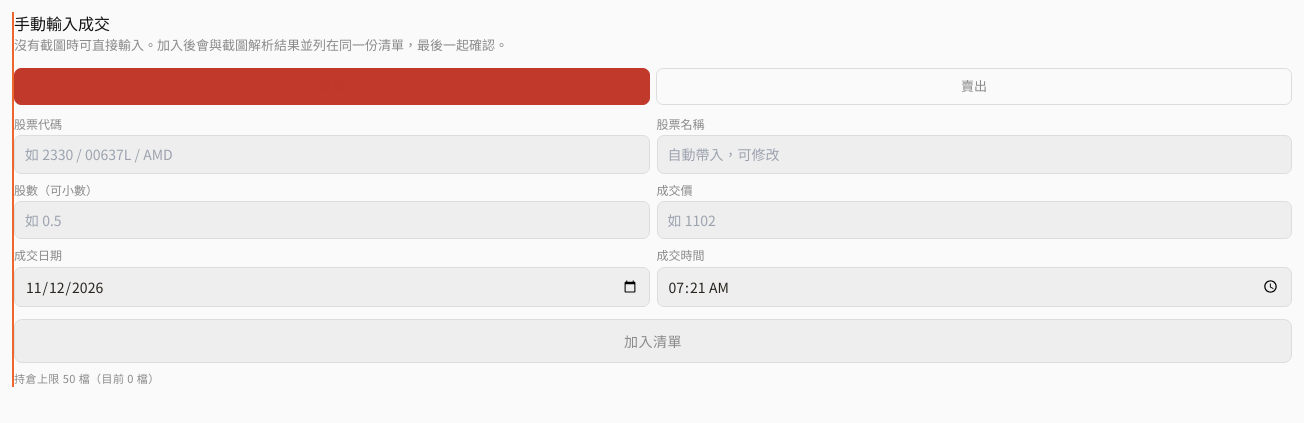
Test case: ManualTradeForm — 只輸出 row，不提交 › code 改變會清掉未手改的名稱，避免 code=AMD/name=台積電
The image size is (1304, 423).
Type "2330" into the field named "股票代碼".
click(332, 154); type("2330")  # box [14, 135, 650, 174]
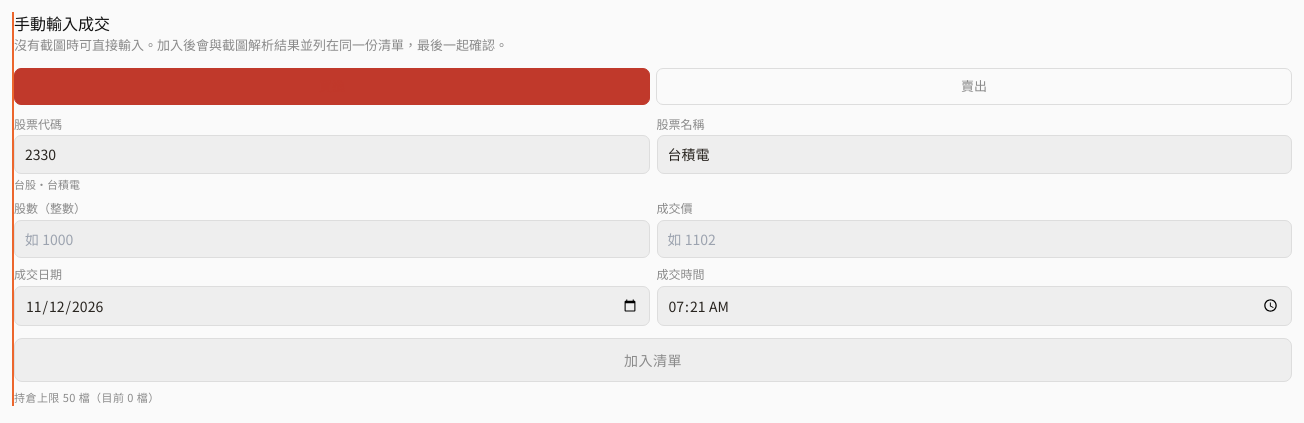
Expected: the field named "股票名稱" holds "台積電", [656, 135, 1292, 174]
Type "1000" into the field named "股數".
click(332, 239); type("1000")  # box [14, 220, 650, 258]
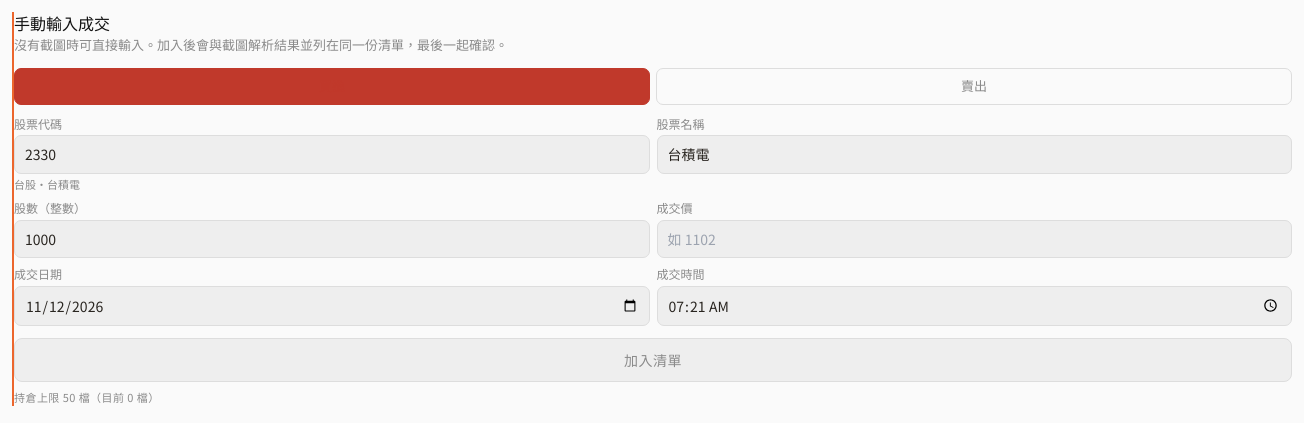
Type "1100" into the field named "成交價".
click(974, 239); type("1100")  # box [656, 220, 1292, 258]
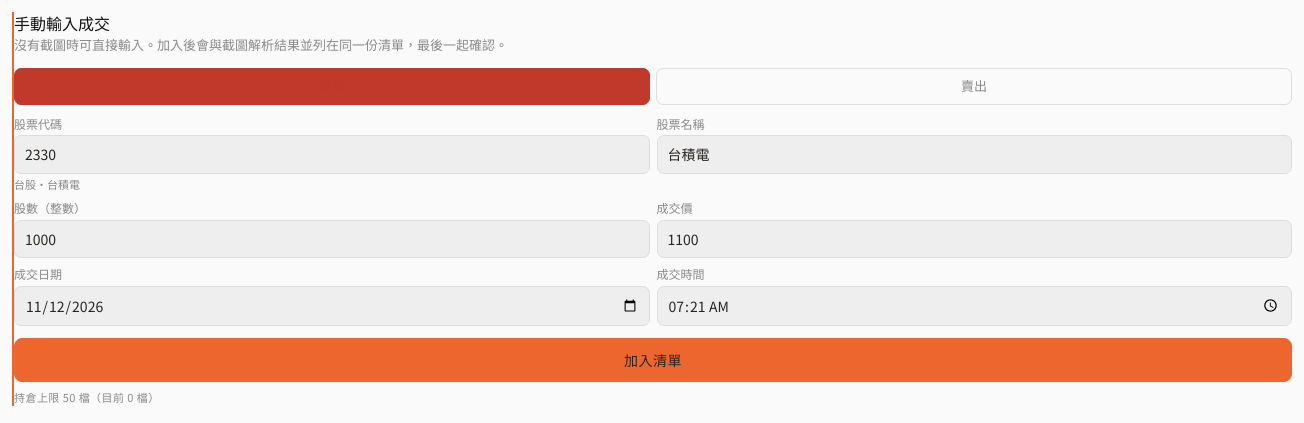
Replace the text in the field named "股票代碼" with "AMD" at (332,154), box [14, 135, 650, 174]
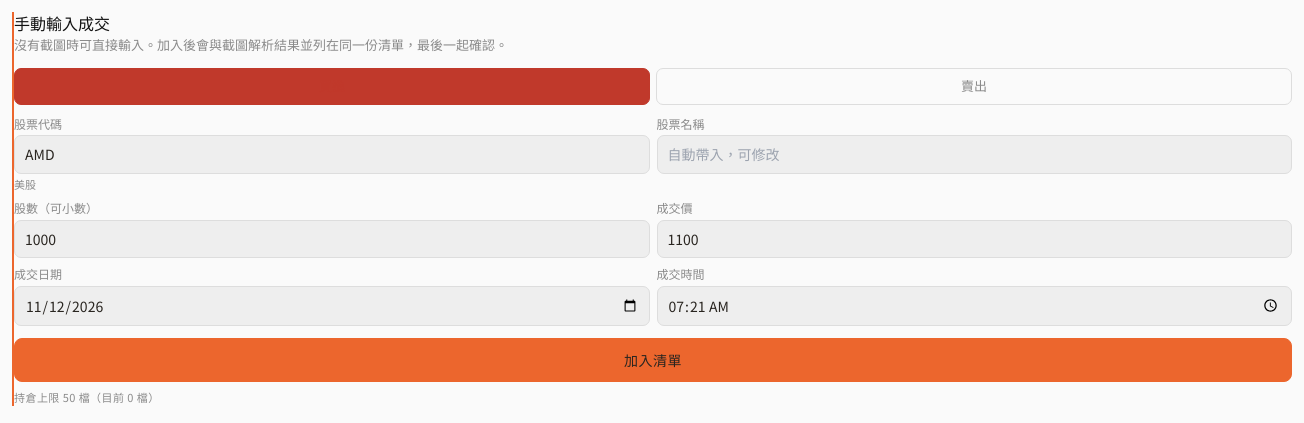
Expected: the field named "股票名稱" does not hold "台積電", [656, 135, 1292, 174]
